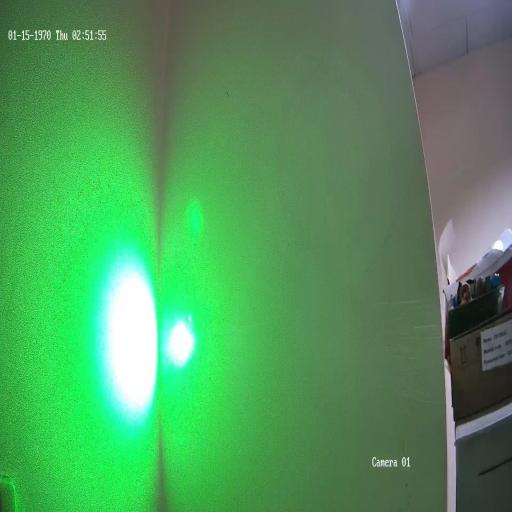laser: (159, 301, 203, 384)
